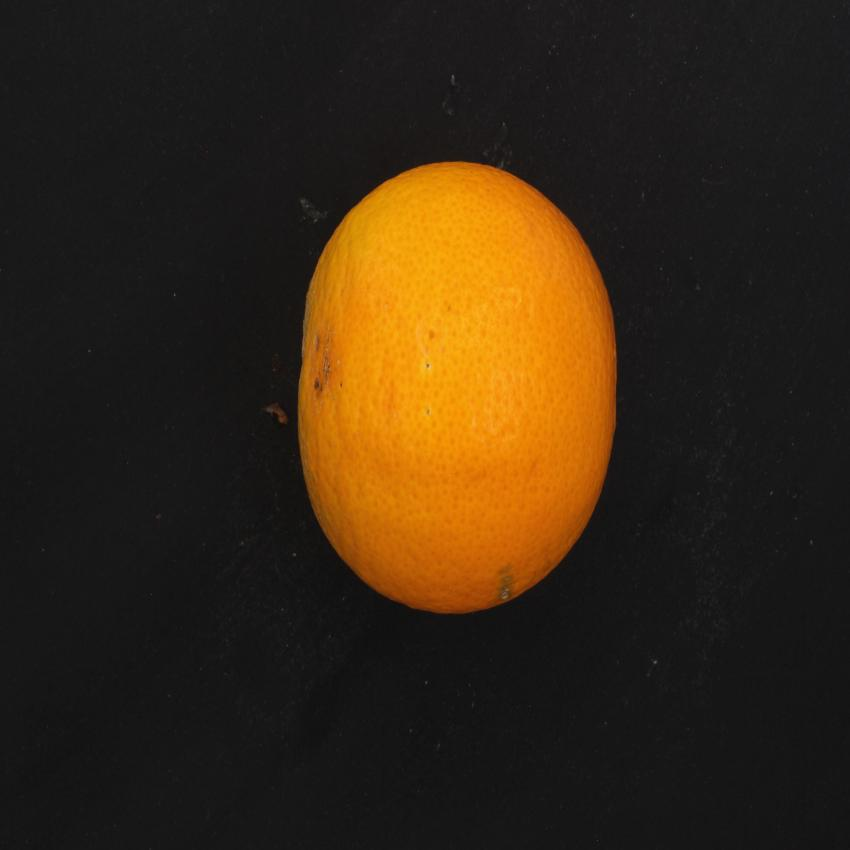Buen estado: (266, 152, 624, 631)
